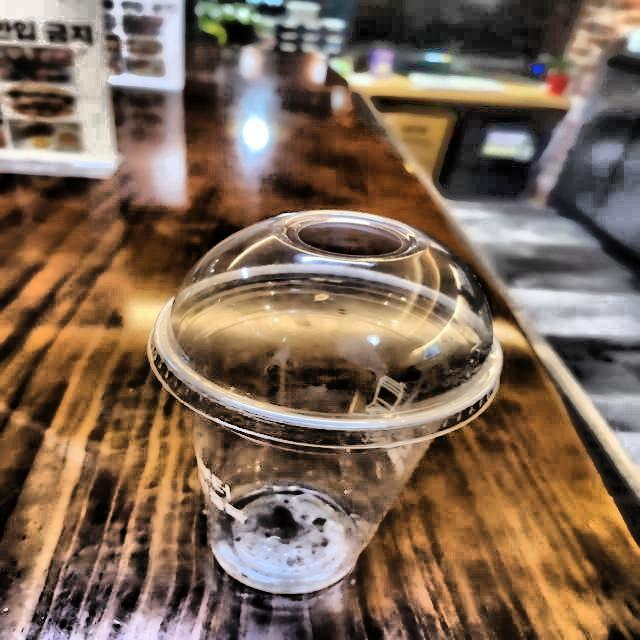plastic cup: (102, 183, 533, 614)
